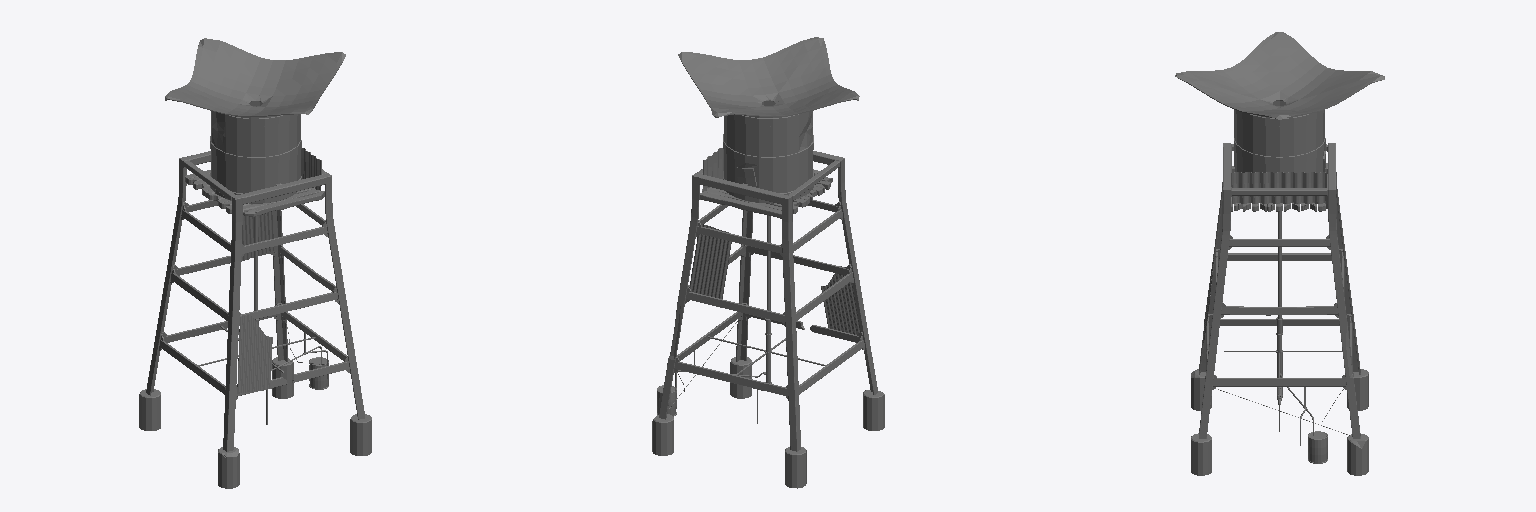
The model's file is waterTower.obj.
3 views of the same model, side by side, from view 1: azimuth 30°, elevation 25°; view 2: azimuth 150°, elevation 25°; view 3: azimuth 270°, elevation 25° (orthographic).
Size of the model in its own units: 31.43 by 60.48 by 31.43.